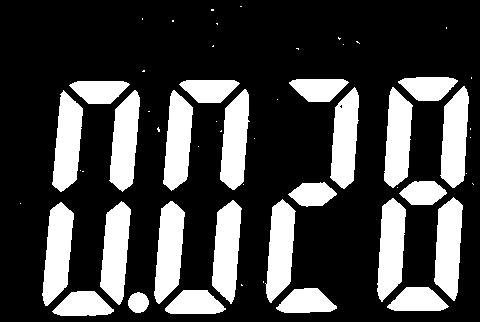0: (39, 77, 139, 315), (155, 77, 252, 314)
2: (266, 76, 360, 315)
8: (378, 72, 470, 313)
dot: (124, 290, 153, 315)
